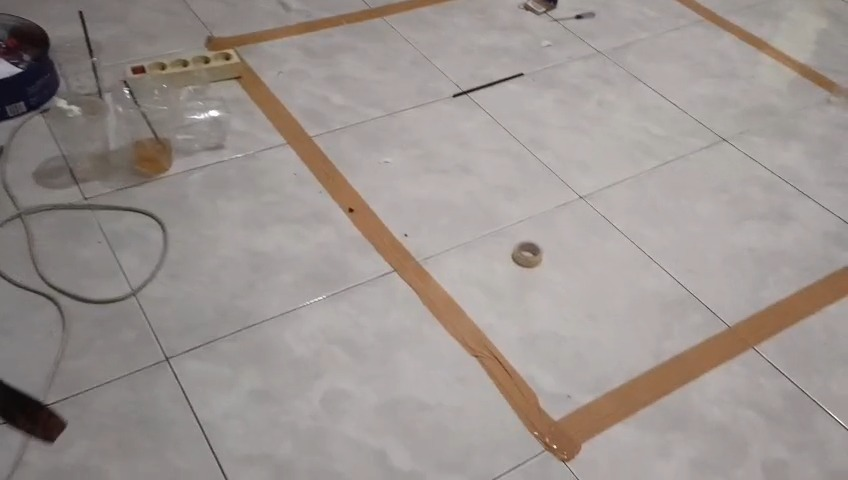floor marking: (239, 65, 847, 460), (677, 0, 847, 99), (206, 0, 447, 47)
